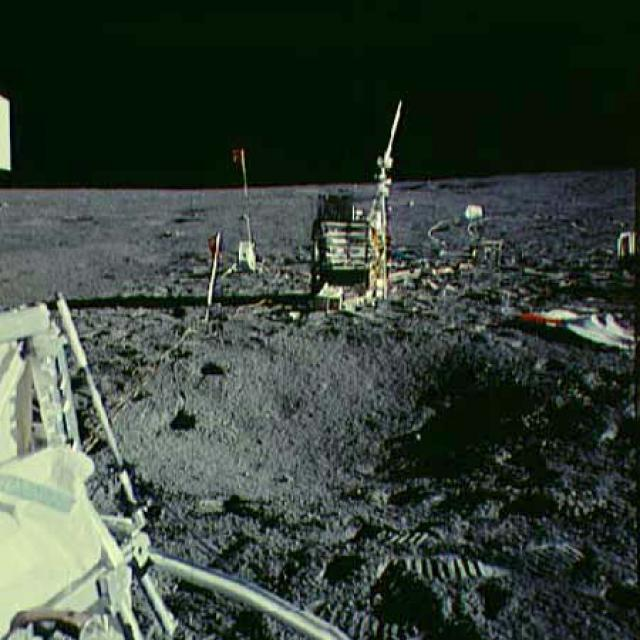crater: (95, 299, 606, 527)
